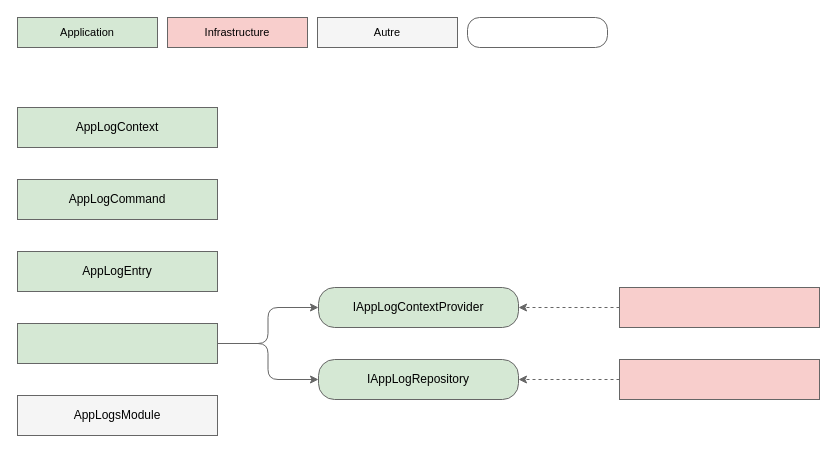
Image size: 837x453. Some labels were removed from this diagram. Here are the shapes that lost their labels. From the top down, the centre of each, then its label:
At point 537,32: "Port (interface)".
At point 719,307: "HttpAppLogContextProvider".
At point 117,343: "AppLogService".
At point 719,379: "PostgresAppLogRepository".
